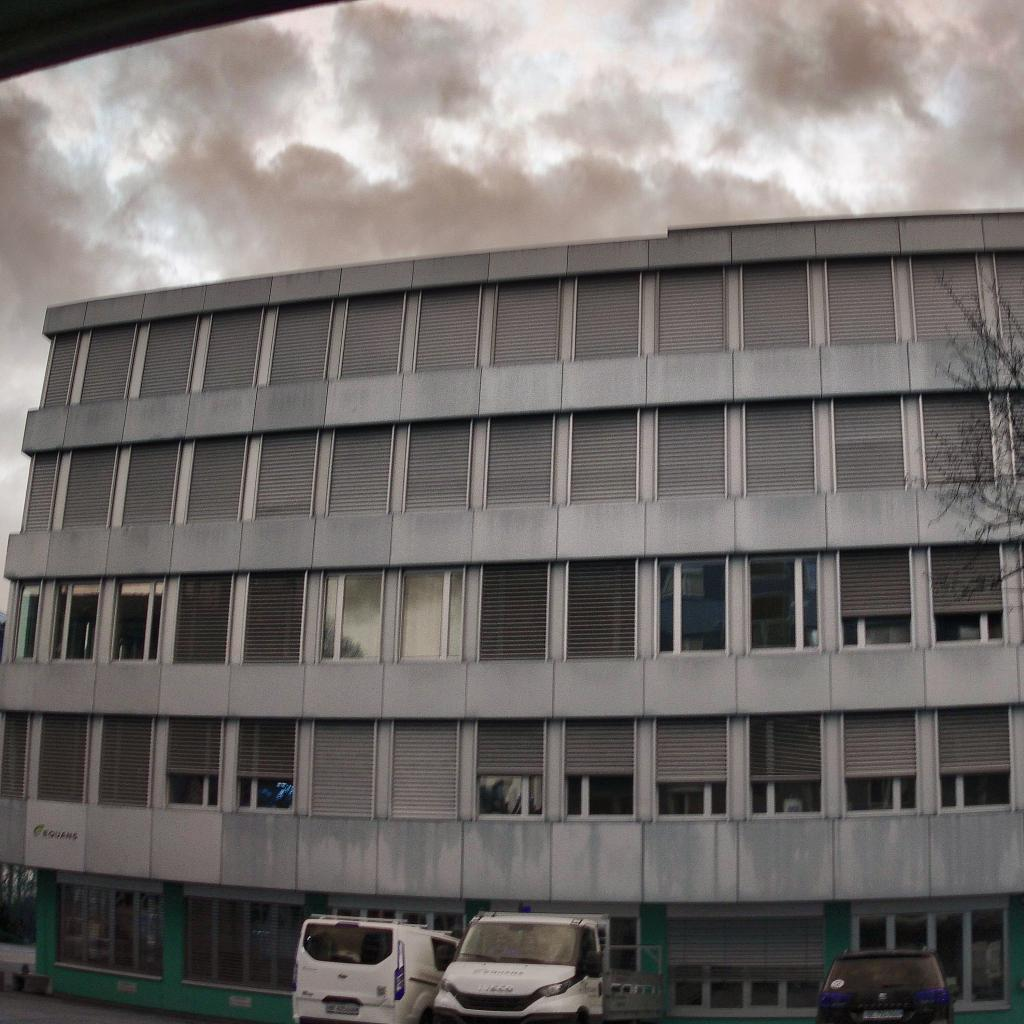car: (432, 911, 663, 1024), (291, 914, 461, 1024), (816, 948, 955, 1024)
facade: (0, 208, 1024, 902)
shop: (35, 868, 1024, 1024)
street: (0, 944, 273, 1024)
vegetation: (900, 253, 1024, 661), (0, 863, 37, 946)
window: (849, 907, 1011, 1011), (670, 918, 824, 1011), (184, 897, 298, 991), (55, 883, 162, 977), (563, 716, 635, 823), (843, 709, 917, 813), (656, 715, 728, 821), (831, 394, 908, 493), (749, 713, 821, 817), (931, 544, 1004, 644), (938, 706, 1009, 808), (744, 397, 817, 496), (748, 550, 819, 651), (840, 546, 911, 647), (655, 402, 727, 501), (920, 390, 995, 485), (475, 721, 546, 821), (390, 718, 459, 820), (657, 554, 725, 655), (484, 412, 554, 510), (569, 406, 638, 504), (567, 561, 635, 660), (911, 251, 985, 341), (311, 717, 376, 818), (827, 256, 899, 347), (480, 563, 547, 660), (404, 419, 471, 512), (741, 260, 810, 350), (243, 568, 306, 666), (656, 265, 725, 354), (491, 279, 561, 366), (252, 429, 318, 521), (327, 424, 393, 516), (574, 271, 641, 361), (339, 290, 407, 378), (415, 283, 481, 372), (268, 298, 333, 385), (320, 572, 383, 661), (173, 571, 233, 664), (187, 435, 248, 523), (401, 570, 463, 656), (238, 717, 295, 809), (139, 314, 200, 399), (121, 440, 179, 528), (201, 308, 263, 390), (61, 444, 120, 530), (98, 714, 152, 807), (168, 717, 221, 810), (79, 322, 136, 406), (36, 711, 88, 803), (109, 578, 164, 661), (49, 578, 101, 661), (332, 904, 463, 931), (39, 330, 81, 409), (21, 451, 61, 532), (992, 251, 1024, 338), (12, 580, 42, 662), (1008, 388, 1024, 483), (610, 917, 638, 945)
